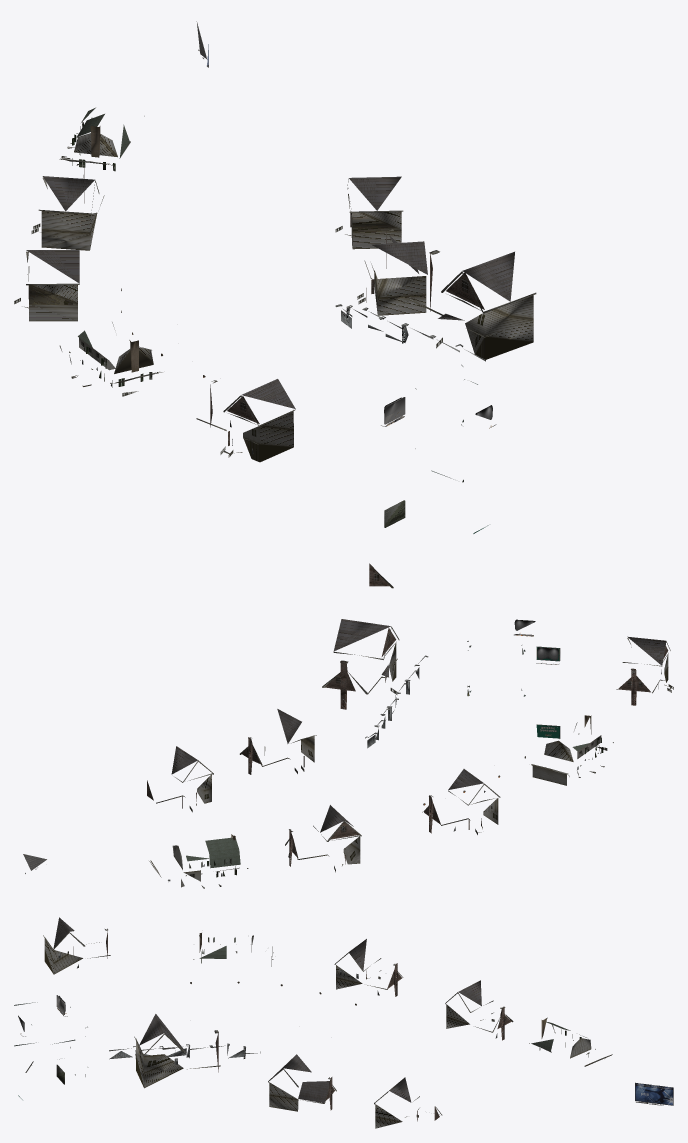
The model's file is world_camden_9_-8.gltf.
3 renders of one model, top to bottom at view 1: azimuth 30°, elevation 25°; view 2: azimuth 150°, elevation 25°; view 3: azimuth 270°, elevation 25°, orthographic. The views are drawn at different scales.
Bounding box in the file's own units: 114 × 40.31 × 215.
28 materials, 28 textured.
